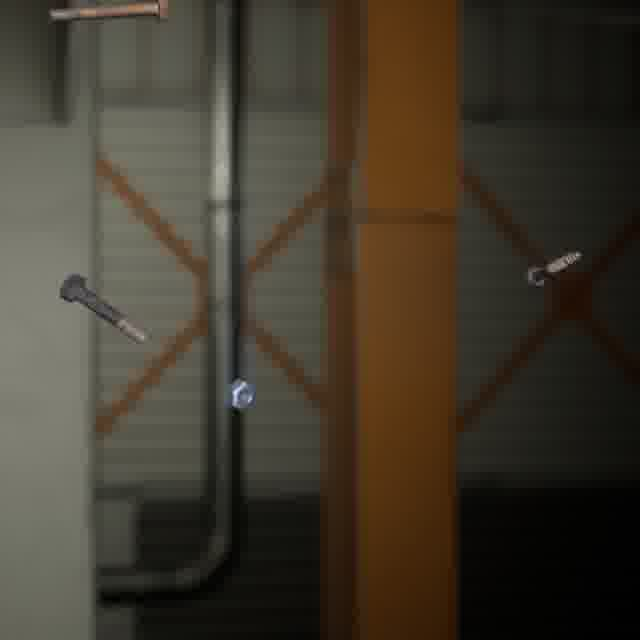bolt: (55, 269, 152, 348), (43, 0, 173, 27), (519, 247, 585, 291)
nut: (221, 374, 259, 415)
